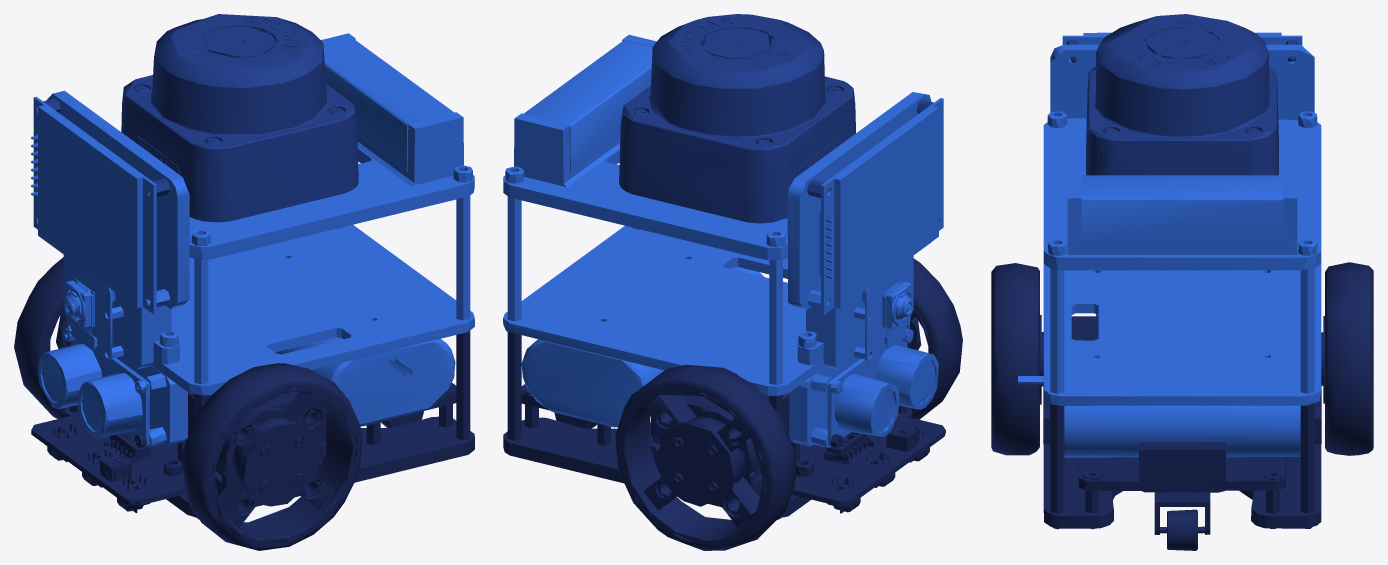
The model's file is pinky.glb.
The picture shows the model from 3 angles, left to right: view 1: azimuth 30°, elevation 25°; view 2: azimuth 150°, elevation 25°; view 3: azimuth 270°, elevation 25°; orthographic projection.
Size of the model in its own units: 0.1161 by 0.1358 by 0.11.
